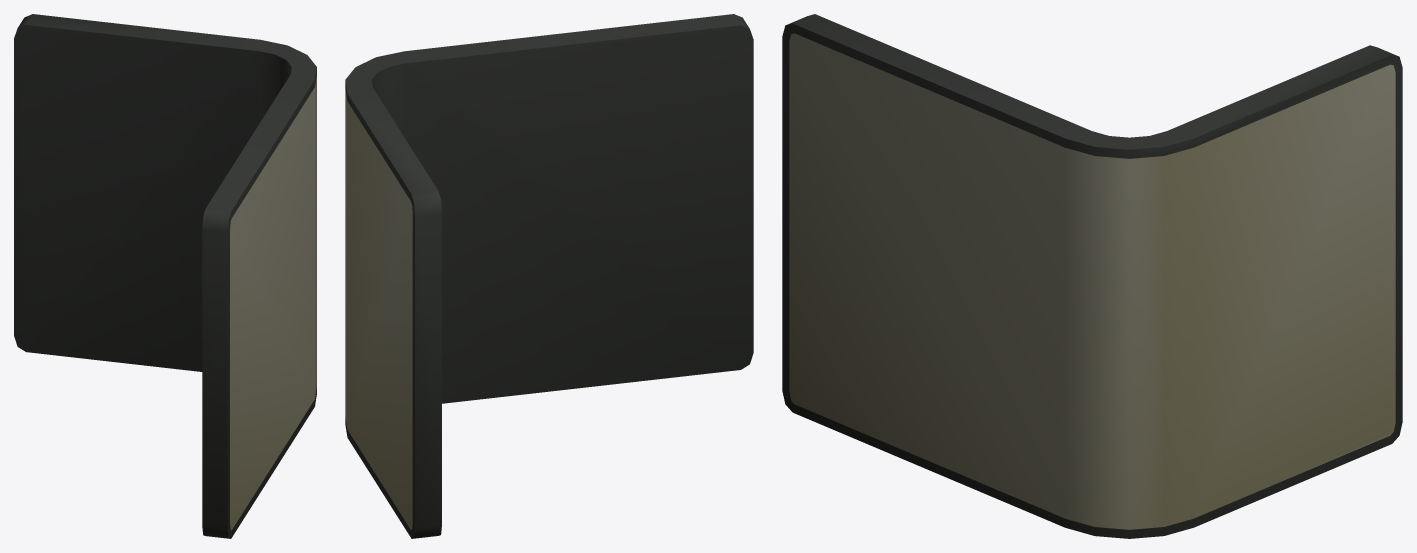
The model's file is ct_billboard.glb.
3 views of the same model, side by side, from view 1: azimuth 30°, elevation 25°; view 2: azimuth 150°, elevation 25°; view 3: azimuth 270°, elevation 25° (orthographic). The views are drawn at different scales.
Visible parts, largest first — view 1: ct_billboard; view 2: ct_billboard; view 3: ct_billboard.
Part boxes in pixels (left/top/right/bottom): ct_billboard: left=14, top=14, right=316, bottom=538; ct_billboard: left=345, top=14, right=753, bottom=538; ct_billboard: left=782, top=14, right=1402, bottom=538.
Bounding box in the file's own units: 6.15 × 7.96 × 11.5.
